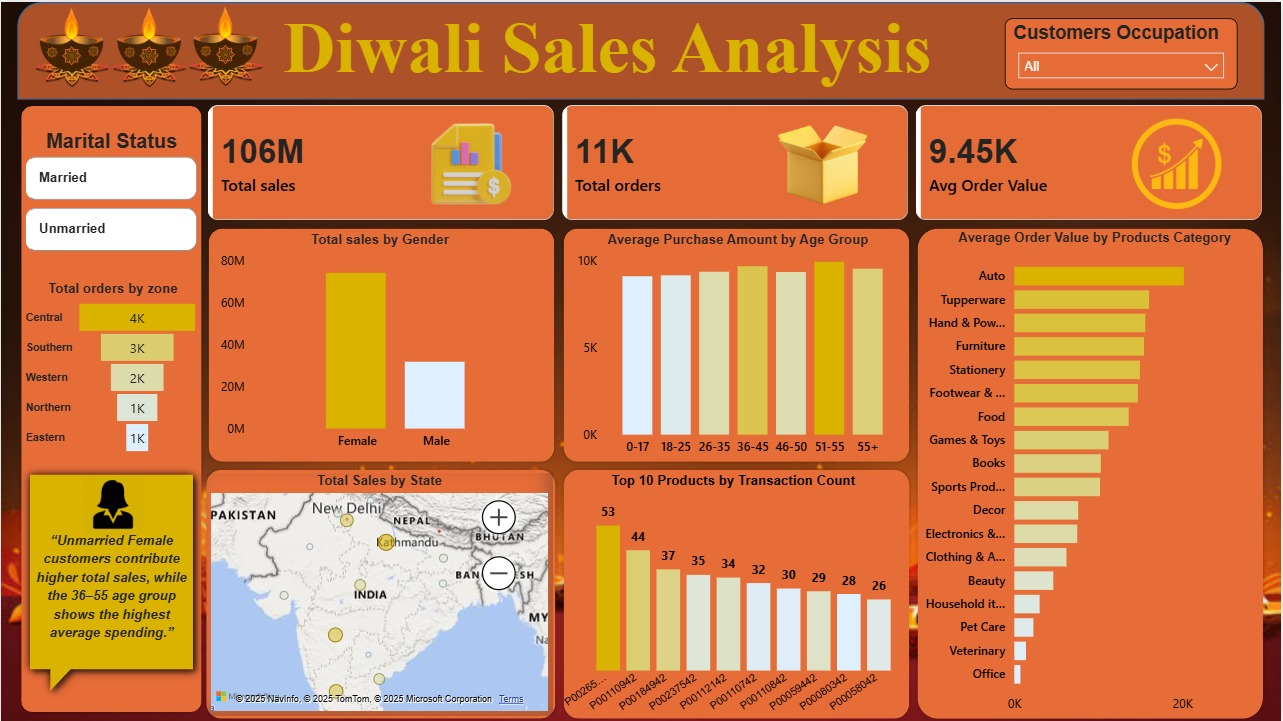

The page's visual inventory and layout, read from the dashboard file:
{"tool":"powerbi","page":{"name":"Dashboard","canvas":[1280,720],"ordinal":0},"visuals":[{"type":"cardVisual","fields":{"Data":["public diwali_sales.Total sales","public diwali_sales.Total orders","public diwali_sales.Average Order Value"]},"box":[190.6,86.9,1089.4,149.6],"z":0},{"type":"shape","box":[15.7,0,1247.5,97.7],"z":1000},{"type":"shape","box":[203.9,222,353.5,241.3],"z":2000},{"type":"clusteredColumnChart","title":"Total sales by Gender","fields":{"Y":["public diwali_sales.Total sales"],"Category":["public diwali_sales.gender"]},"box":[214.7,230.4,328.2,226.8],"z":3000},{"type":"shape","box":[558.6,222,353.5,241.3],"z":4000},{"type":"shape","box":[912.1,222,353.5,498.3],"z":5000},{"type":"clusteredColumnChart","title":"Average Purchase Amount by Age Group","fields":{"Category":["public diwali_sales.age_group"],"Y":["Avg(public diwali_sales.amount)"]},"box":[571.9,230.4,331.8,232.8],"z":6000},{"type":"clusteredBarChart","title":"Average Order Value by Products Category","fields":{"Category":["public diwali_sales.product_category"],"Y":["public diwali_sales.Average Order Value"]},"box":[907.1,227.1,372.9,492.9],"z":7000},{"type":"shape","box":[558.6,463.3,353.5,257],"z":8000},{"type":"clusteredColumnChart","title":"Top 10 Products by Transaction Count","fields":{"Category":["public diwali_sales.product_id"],"Y":["CountNonNull(public diwali_sales.orders)"]},"box":[557.4,471.7,349.9,248.5],"z":9000},{"type":"shape","box":[201.5,463.3,357.1,257],"z":10000},{"type":"map","title":"Total Sales by State","fields":{"Category":["public diwali_sales.state"],"Size":["public diwali_sales.Total sales"]},"box":[205.1,471.7,347.5,242.5],"z":11000},{"type":"shape","box":[15.7,100.1,188.2,614.1],"z":12000},{"type":"advancedSlicerVisual","title":"Marital Status","fields":{"Values":["public diwali_sales.marital_status"]},"box":[20,127.1,181.4,127.1],"z":13000},{"type":"slicer","title":"Customers Occupation ","fields":{"Values":["public diwali_sales.occupation"]},"box":[1004.3,15.7,232.9,71.4],"z":14000},{"type":"textbox","box":[277.1,0,658.6,100],"z":15000},{"type":"image","box":[160,0,130,84.3],"z":16000},{"type":"image","box":[84.3,1.4,130,84.3],"z":17000},{"type":"image","box":[5.7,1.4,130,84.3],"z":18000},{"type":"funnel","fields":{"Category":["public diwali_sales.zone"],"Y":["public diwali_sales.Total orders"]},"box":[20,278.6,184.3,178.6],"z":19000},{"type":"shape","box":[20.5,463.3,181,234],"z":20000},{"type":"textbox","box":[26.5,523.6,168.9,136.3],"z":21000},{"type":"image","box":[71.2,471.7,82,62.7],"z":21001}]}

Visuals, with their boxes in screenshot pixels (x1, y1, x2, y2), scaled from the page's 1280x720 canvas onto the 1283x721 screenshot:
cardVisual - public diwali_sales.Total sales x public diwali_sales.Total orders: <bbox>191, 87, 1282, 237</bbox>
shape: <bbox>16, 0, 1266, 98</bbox>
shape: <bbox>204, 222, 559, 464</bbox>
"Total sales by Gender" clusteredColumnChart: <bbox>215, 231, 544, 458</bbox>
shape: <bbox>560, 222, 914, 464</bbox>
shape: <bbox>914, 222, 1269, 720</bbox>
"Average Purchase Amount by Age Group" clusteredColumnChart: <bbox>573, 231, 906, 464</bbox>
"Average Order Value by Products Category" clusteredBarChart: <bbox>909, 227, 1282, 720</bbox>
shape: <bbox>560, 464, 914, 720</bbox>
"Top 10 Products by Transaction Count" clusteredColumnChart: <bbox>559, 472, 909, 720</bbox>
shape: <bbox>202, 464, 560, 720</bbox>
"Total Sales by State" map: <bbox>206, 472, 554, 715</bbox>
shape: <bbox>16, 100, 204, 715</bbox>
"Marital Status" advancedSlicerVisual: <bbox>20, 127, 202, 255</bbox>
"Customers Occupation " slicer: <bbox>1007, 16, 1240, 87</bbox>
textbox: <bbox>278, 0, 938, 100</bbox>
image: <bbox>160, 0, 291, 84</bbox>
image: <bbox>84, 1, 215, 86</bbox>
image: <bbox>6, 1, 136, 86</bbox>
funnel - public diwali_sales.zone x public diwali_sales.Total orders: <bbox>20, 279, 205, 458</bbox>
shape: <bbox>21, 464, 202, 698</bbox>
textbox: <bbox>27, 524, 196, 661</bbox>
image: <bbox>71, 472, 154, 535</bbox>
